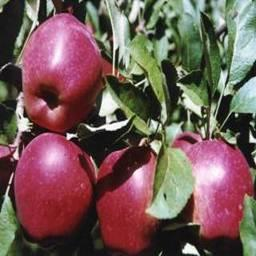apple: (20, 14, 106, 130), (14, 134, 95, 239), (176, 139, 250, 239), (96, 146, 165, 251)
